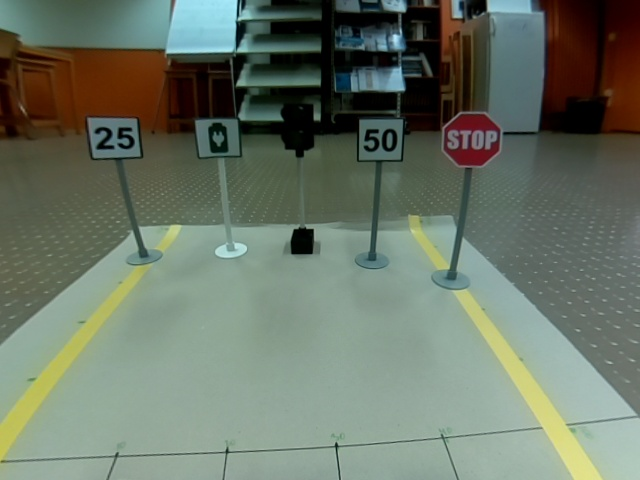battery: (194, 118, 242, 158)
speed25: (85, 116, 144, 160)
speed50: (357, 117, 404, 162)
stop: (441, 111, 503, 168)
trafficLightOff: (281, 103, 314, 151)
